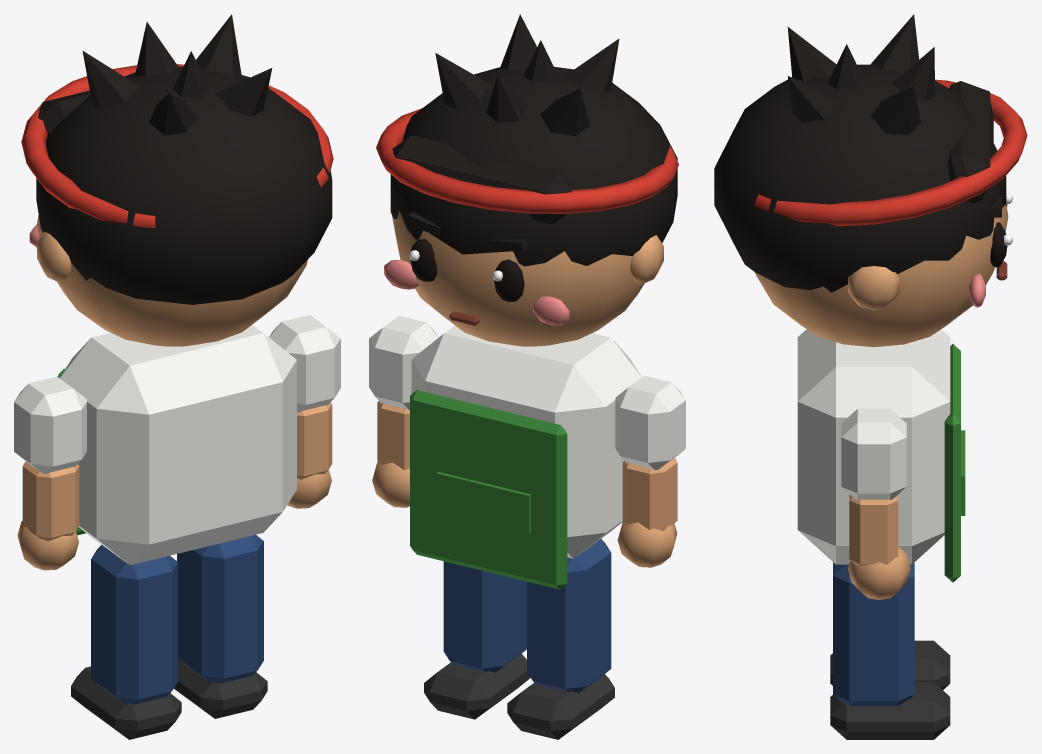
Rendered from tom.glb.
The picture shows the model from 3 angles, left to right: view 1: azimuth 30°, elevation 25°; view 2: azimuth 150°, elevation 25°; view 3: azimuth 270°, elevation 25°; orthographic projection. The views are drawn at different scales.
Parts seen in each view (by area): view 1: HeadMesh, TorsoMesh, LegLMesh, LegRMesh, ArmLMesh, ArmRMesh; view 2: HeadMesh, TorsoMesh, LegLMesh, LegRMesh, ArmLMesh, ArmRMesh; view 3: HeadMesh, TorsoMesh, LegRMesh, ArmRMesh, LegLMesh.
Boxes of the visible parts, x1,y1,x2,y2 form: HeadMesh: (21, 14, 333, 346); TorsoMesh: (57, 325, 296, 565); LegLMesh: (71, 544, 181, 739); LegRMesh: (174, 534, 267, 718); ArmLMesh: (14, 376, 86, 570); ArmRMesh: (269, 315, 340, 508); HeadMesh: (376, 14, 678, 346); TorsoMesh: (410, 325, 641, 589); LegLMesh: (507, 539, 614, 739); LegRMesh: (424, 561, 530, 719); ArmLMesh: (615, 375, 685, 567); ArmRMesh: (369, 316, 438, 507); HeadMesh: (714, 14, 1027, 347); TorsoMesh: (797, 329, 965, 582); LegRMesh: (830, 562, 950, 739); ArmRMesh: (841, 408, 910, 599); LegLMesh: (830, 640, 950, 689).
Size of the model in its own units: 0.65 by 1.35 by 0.5748.
